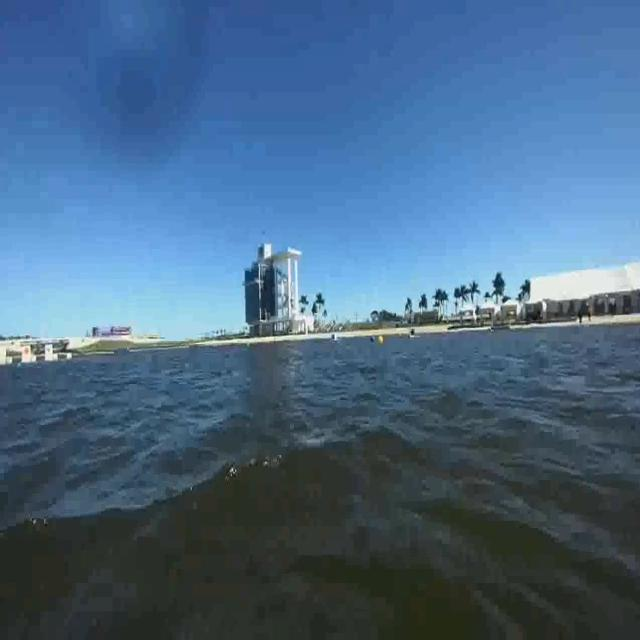yellow-buoy: (379, 336, 385, 348)
